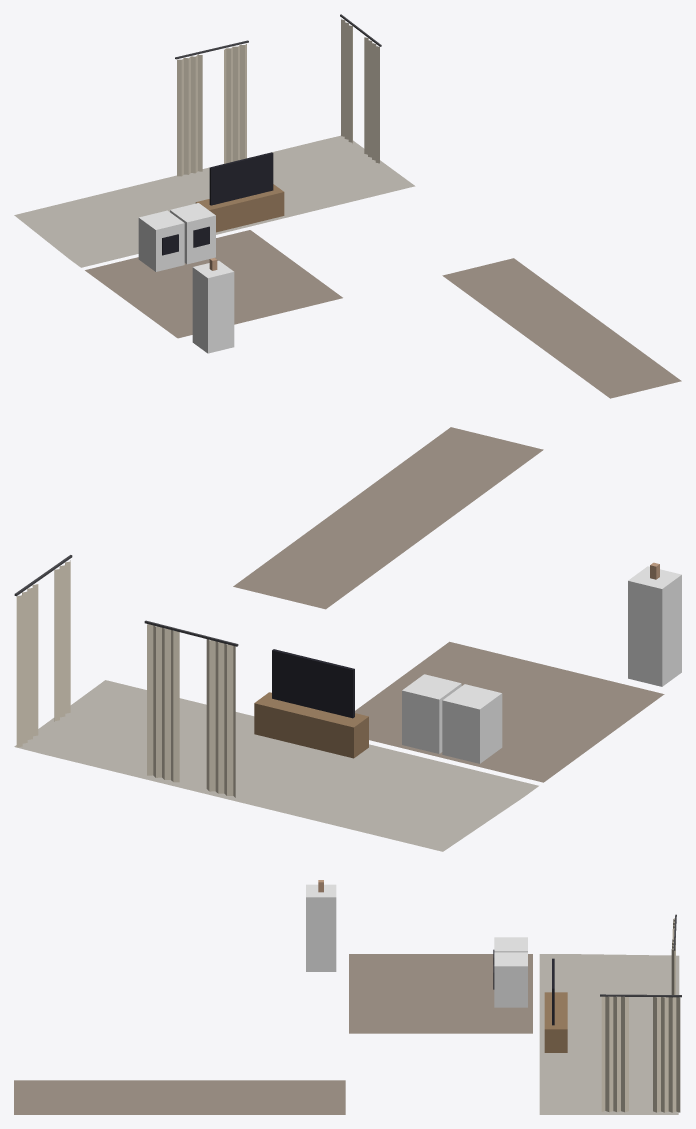
File: fine-s0.glb
3 renders of one model, top to bottom at view 1: azimuth 30°, elevation 25°; view 2: azimuth 150°, elevation 25°; view 3: azimuth 270°, elevation 25°, orthographic. The views are drawn at different scales.
Parts seen in each view (by area): view 1: soft-s0, tv-console.000, water-heater.000, washer.000, washer.001; view 2: soft-s0, tv-console.000, water-heater.000, washer.000, washer.001; view 3: soft-s0, water-heater.000, washer.001, tv-console.000, washer.000.
Boxes of the visible parts, <box> form: soft-s0: <box>14,14,681,398</box>; tv-console.000: <box>195,152,284,232</box>; water-heater.000: <box>192,258,234,353</box>; washer.000: <box>138,210,184,271</box>; washer.001: <box>170,203,215,264</box>; soft-s0: <box>14,427,664,851</box>; tv-console.000: <box>254,649,368,758</box>; water-heater.000: <box>628,562,681,686</box>; washer.000: <box>442,684,502,763</box>; washer.001: <box>402,674,461,753</box>; soft-s0: <box>14,914,681,1114</box>; water-heater.000: <box>306,880,336,971</box>; washer.001: <box>493,952,527,1007</box>; tv-console.000: <box>544,958,567,1052</box>; washer.000: <box>493,937,527,964</box>.
Bounding box in the file's own units: 6.96 × 2.4 × 12.2.
